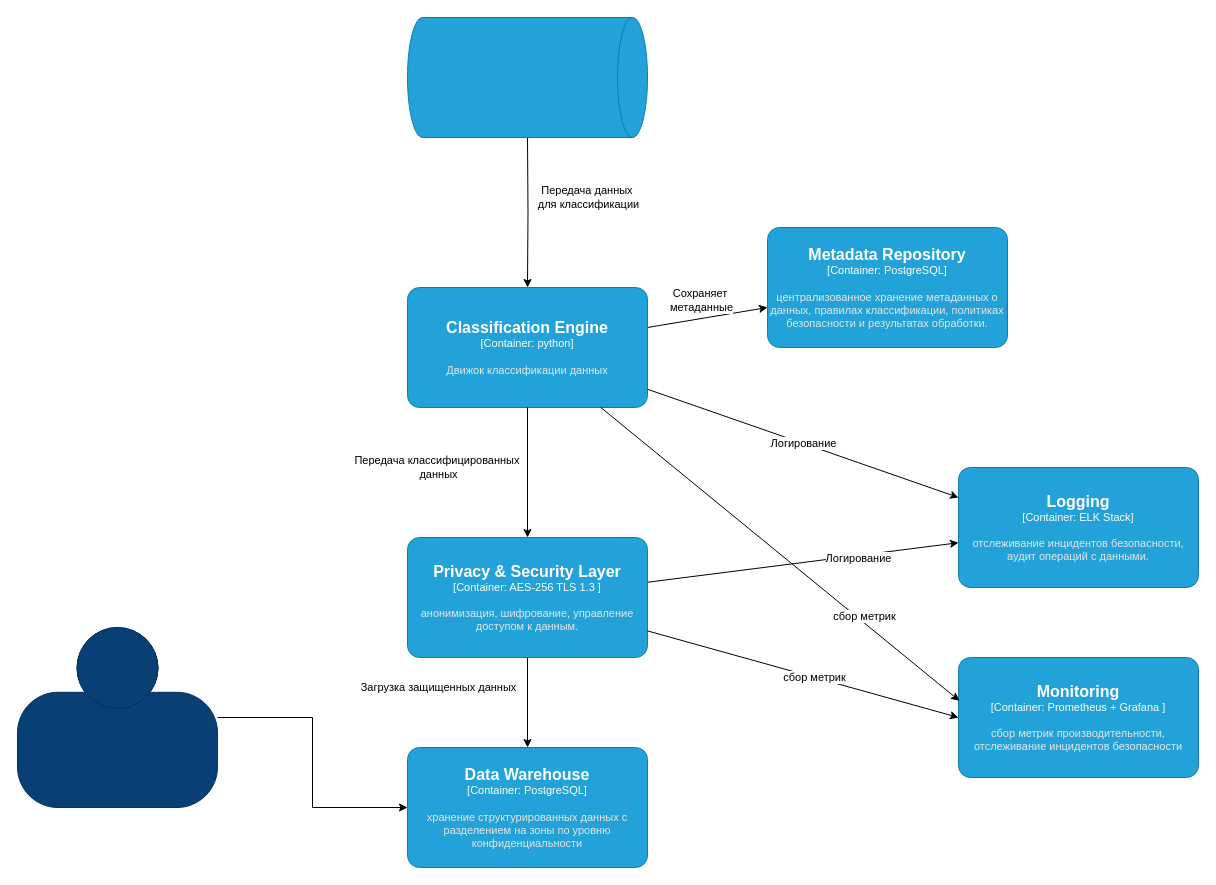
The diagram is 1216 pixels wide and 885 high, and some of its shapes have lost their labels. Here are the shapes that lost their labels. From the top down, the centre of each, then its label:
[527,77]: Broker [Container: e.g. Apache Kafka, etc.] Прием данных от разных источников
[117,717]: Warehouse keeper [Person] Аналитик
